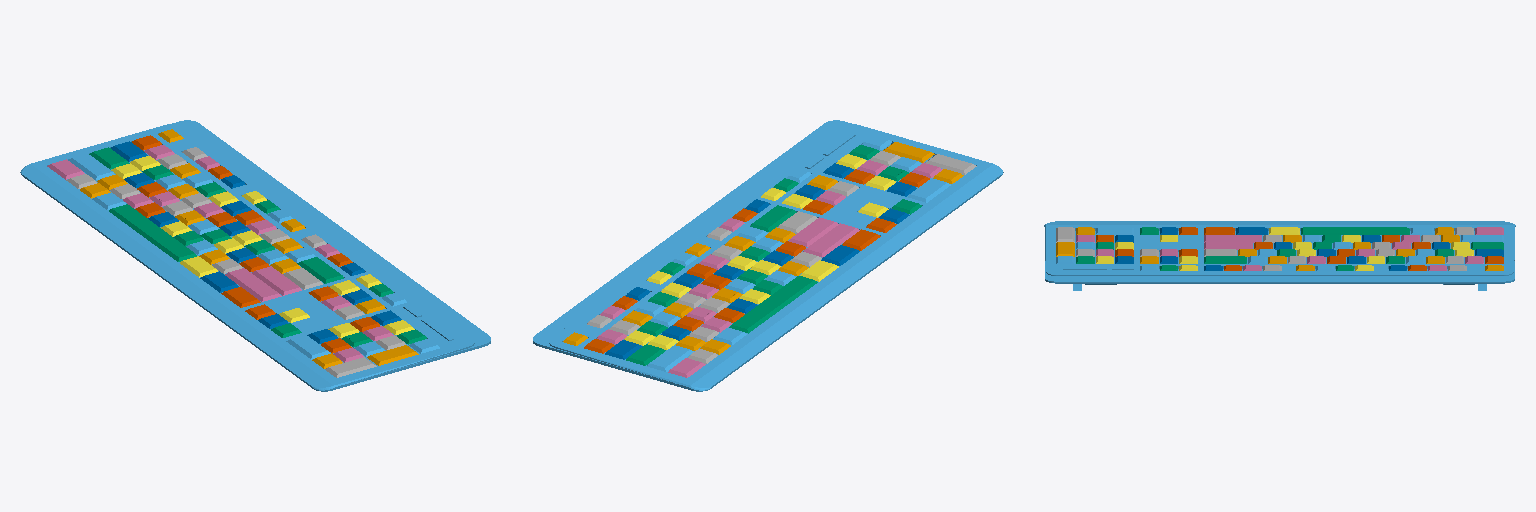
--- Facts derived from the render (not from the file) ---
Views: 3 orthographic renders of the robot side by side, from view 1: azimuth 30°, elevation 25°; view 2: azimuth 150°, elevation 25°; view 3: azimuth 270°, elevation 25°.
Model partnet_e288a26e631df11f163b8151aa4c52b1 with 106 links and 105 joints (104 prismatic, 1 fixed), rooted at base, posed every joint at zero.
Links seen in each view (by area): view 1: link_104, link_25, link_29, link_53, link_81, link_40, link_16, link_7, link_14; view 2: link_104, link_25, link_29, link_53, link_40, link_81, link_16, link_7, link_14; view 3: link_104, link_25.
Link boxes in pixels (left/top/right/bottom): link_104: left=20, top=120, right=490, bottom=391; link_25: left=109, top=204, right=196, bottom=261; link_29: left=225, top=268, right=281, bottom=301; link_53: left=252, top=266, right=301, bottom=295; link_81: left=297, top=257, right=343, bottom=283; link_40: left=68, top=153, right=114, bottom=179; link_16: left=286, top=335, right=330, bottom=359; link_7: left=367, top=345, right=418, bottom=365; link_14: left=325, top=357, right=376, bottom=377; link_104: left=533, top=120, right=1003, bottom=391; link_25: left=729, top=276, right=817, bottom=333; link_29: left=803, top=223, right=859, bottom=257; link_53: left=789, top=217, right=838, bottom=246; link_40: left=647, top=345, right=693, bottom=371; link_81: left=750, top=205, right=796, bottom=231; link_16: left=908, top=178, right=950, bottom=202; link_7: left=883, top=142, right=934, bottom=162; link_14: left=925, top=154, right=976, bottom=174; link_104: left=1044, top=221, right=1515, bottom=290; link_25: left=1301, top=227, right=1409, bottom=234.
Size in the robot's own frame: 0.6345 by 1.9 by 0.0626 metres.
109 mesh visuals loaded from 109 distinct referenced files (109 OBJ).

URDF robot description (partnet_e288a26e631df11f163b8151aa4c52b1):
<?xml version="1.0" ?>
<robot name="partnet_e288a26e631df11f163b8151aa4c52b1">
	<link name="base"/>
	<link name="link_0">
		<visual name="key-2">
			<origin xyz="-0.8376136925644979 -0.01796272728800824 0.025560318443522766"/>
			<geometry>
				<mesh filename="textured_objs/original_103.obj"/>
			</geometry>
		</visual>
		<collision>
			<origin xyz="-0.8376136925644979 -0.01796272728800824 0.025560318443522766"/>
			<geometry>
				<mesh filename="textured_objs/original_103.obj"/>
			</geometry>
		</collision>
	</link>
	<joint name="joint_0" type="prismatic">
		<origin xyz="0.8376136925644979 0.01796272728800824 -0.025560318443522766"/>
		<axis xyz="0 -0.999122966290321 -0.04187240417303504"/>
		<child link="link_0"/>
		<parent link="link_104"/>
		<limit lower="0" upper="0.005"/>
	</joint>
	<link name="link_1">
		<visual name="key-3">
			<origin xyz="-0.8376136925644979 -0.01796272728800824 0.025560318443522766"/>
			<geometry>
				<mesh filename="textured_objs/original_106.obj"/>
			</geometry>
		</visual>
		<collision>
			<origin xyz="-0.8376136925644979 -0.01796272728800824 0.025560318443522766"/>
			<geometry>
				<mesh filename="textured_objs/original_106.obj"/>
			</geometry>
		</collision>
	</link>
	<joint name="joint_1" type="prismatic">
		<origin xyz="0.8376136925644979 0.01796272728800824 -0.025560318443522766"/>
		<axis xyz="0 -0.999122966290321 -0.04187240417303504"/>
		<child link="link_1"/>
		<parent link="link_104"/>
		<limit lower="0" upper="0.005"/>
	</joint>
	<link name="link_2">
		<visual name="key-4">
			<origin xyz="-0.8376136925644979 -0.01796272728800824 0.025560318443522766"/>
			<geometry>
				<mesh filename="textured_objs/original_109.obj"/>
			</geometry>
		</visual>
		<collision>
			<origin xyz="-0.8376136925644979 -0.01796272728800824 0.025560318443522766"/>
			<geometry>
				<mesh filename="textured_objs/original_109.obj"/>
			</geometry>
		</collision>
	</link>
	<joint name="joint_2" type="prismatic">
		<origin xyz="0.8376136925644979 0.01796272728800824 -0.025560318443522766"/>
		<axis xyz="0 -0.999122966290321 -0.04187240417303504"/>
		<child link="link_2"/>
		<parent link="link_104"/>
		<limit lower="0" upper="0.005"/>
	</joint>
	<link name="link_3">
		<visual name="key-5">
			<origin xyz="-0.8376136925644979 -0.01796272728800824 0.025560318443522766"/>
			<geometry>
				<mesh filename="textured_objs/original_115.obj"/>
			</geometry>
		</visual>
		<collision>
			<origin xyz="-0.8376136925644979 -0.01796272728800824 0.025560318443522766"/>
			<geometry>
				<mesh filename="textured_objs/original_115.obj"/>
			</geometry>
		</collision>
	</link>
	<joint name="joint_3" type="prismatic">
		<origin xyz="0.8376136925644979 0.01796272728800824 -0.025560318443522766"/>
		<axis xyz="0 -0.999122966290321 -0.04187240417303504"/>
		<child link="link_3"/>
		<parent link="link_104"/>
		<limit lower="0" upper="0.005"/>
	</joint>
	<link name="link_4">
		<visual name="key-6">
			<origin xyz="-0.8376136925644979 -0.01796272728800824 0.025560318443522766"/>
			<geometry>
				<mesh filename="textured_objs/original_114.obj"/>
			</geometry>
		</visual>
		<collision>
			<origin xyz="-0.8376136925644979 -0.01796272728800824 0.025560318443522766"/>
			<geometry>
				<mesh filename="textured_objs/original_114.obj"/>
			</geometry>
		</collision>
	</link>
	<joint name="joint_4" type="prismatic">
		<origin xyz="0.8376136925644979 0.01796272728800824 -0.025560318443522766"/>
		<axis xyz="0 -0.999122966290321 -0.04187240417303504"/>
		<child link="link_4"/>
		<parent link="link_104"/>
		<limit lower="0" upper="0.005"/>
	</joint>
	<link name="link_5">
		<visual name="key-7">
			<origin xyz="-0.8376136925644979 -0.01796272728800824 0.025560318443522766"/>
			<geometry>
				<mesh filename="textured_objs/original_108.obj"/>
			</geometry>
		</visual>
		<collision>
			<origin xyz="-0.8376136925644979 -0.01796272728800824 0.025560318443522766"/>
			<geometry>
				<mesh filename="textured_objs/original_108.obj"/>
			</geometry>
		</collision>
	</link>
	<joint name="joint_5" type="prismatic">
		<origin xyz="0.8376136925644979 0.01796272728800824 -0.025560318443522766"/>
		<axis xyz="0 -0.999122966290321 -0.04187240417303504"/>
		<child link="link_5"/>
		<parent link="link_104"/>
		<limit lower="0" upper="0.005"/>
	</joint>
	<link name="link_6">
		<visual name="key-8">
			<origin xyz="-0.8376136925644979 -0.01796272728800824 0.025560318443522766"/>
			<geometry>
				<mesh filename="textured_objs/original_111.obj"/>
			</geometry>
		</visual>
		<collision>
			<origin xyz="-0.8376136925644979 -0.01796272728800824 0.025560318443522766"/>
			<geometry>
				<mesh filename="textured_objs/original_111.obj"/>
			</geometry>
		</collision>
	</link>
	<joint name="joint_6" type="prismatic">
		<origin xyz="0.8376136925644979 0.01796272728800824 -0.025560318443522766"/>
		<axis xyz="0 -0.999122966290321 -0.04187240417303504"/>
		<child link="link_6"/>
		<parent link="link_104"/>
		<limit lower="0" upper="0.005"/>
	</joint>
	<link name="link_7">
		<visual name="key-9">
			<origin xyz="-0.8376136925644979 -0.01796272728800824 0.025560318443522766"/>
			<geometry>
				<mesh filename="textured_objs/original_104.obj"/>
			</geometry>
		</visual>
		<collision>
			<origin xyz="-0.8376136925644979 -0.01796272728800824 0.025560318443522766"/>
			<geometry>
				<mesh filename="textured_objs/original_104.obj"/>
			</geometry>
		</collision>
	</link>
	<joint name="joint_7" type="prismatic">
		<origin xyz="0.8376136925644979 0.01796272728800824 -0.025560318443522766"/>
		<axis xyz="0 -0.999122966290321 -0.04187240417303504"/>
		<child link="link_7"/>
		<parent link="link_104"/>
		<limit lower="0" upper="0.005"/>
	</joint>
	<link name="link_8">
		<visual name="key-10">
			<origin xyz="-0.8376136925644979 -0.01796272728800824 0.025560318443522766"/>
			<geometry>
				<mesh filename="textured_objs/original_110.obj"/>
			</geometry>
		</visual>
		<collision>
			<origin xyz="-0.8376136925644979 -0.01796272728800824 0.025560318443522766"/>
			<geometry>
				<mesh filename="textured_objs/original_110.obj"/>
			</geometry>
		</collision>
	</link>
	<joint name="joint_8" type="prismatic">
		<origin xyz="0.8376136925644979 0.01796272728800824 -0.025560318443522766"/>
		<axis xyz="0 -0.999122966290321 -0.04187240417303504"/>
		<child link="link_8"/>
		<parent link="link_104"/>
		<limit lower="0" upper="0.005"/>
	</joint>
	<link name="link_9">
		<visual name="key-11">
			<origin xyz="-0.8376136925644979 -0.01796272728800824 0.025560318443522766"/>
			<geometry>
				<mesh filename="textured_objs/original_113.obj"/>
			</geometry>
		</visual>
		<collision>
			<origin xyz="-0.8376136925644979 -0.01796272728800824 0.025560318443522766"/>
			<geometry>
				<mesh filename="textured_objs/original_113.obj"/>
			</geometry>
		</collision>
	</link>
	<joint name="joint_9" type="prismatic">
		<origin xyz="0.8376136925644979 0.01796272728800824 -0.025560318443522766"/>
		<axis xyz="0 -0.999122966290321 -0.04187240417303504"/>
		<child link="link_9"/>
		<parent link="link_104"/>
		<limit lower="0" upper="0.005"/>
	</joint>
	<link name="link_10">
		<visual name="key-12">
			<origin xyz="-0.8376136925644979 -0.01796272728800824 0.025560318443522766"/>
			<geometry>
				<mesh filename="textured_objs/original_112.obj"/>
			</geometry>
		</visual>
		<collision>
			<origin xyz="-0.8376136925644979 -0.01796272728800824 0.025560318443522766"/>
			<geometry>
				<mesh filename="textured_objs/original_112.obj"/>
			</geometry>
		</collision>
	</link>
	<joint name="joint_10" type="prismatic">
		<origin xyz="0.8376136925644979 0.01796272728800824 -0.025560318443522766"/>
		<axis xyz="0 -0.999122966290321 -0.04187240417303504"/>
		<child link="link_10"/>
		<parent link="link_104"/>
		<limit lower="0" upper="0.005"/>
	</joint>
	<link name="link_11">
		<visual name="key-13">
			<origin xyz="-0.8376136925644979 -0.01796272728800824 0.025560318443522766"/>
			<geometry>
				<mesh filename="textured_objs/original_101.obj"/>
			</geometry>
		</visual>
		<collision>
			<origin xyz="-0.8376136925644979 -0.01796272728800824 0.025560318443522766"/>
			<geometry>
				<mesh filename="textured_objs/original_101.obj"/>
			</geometry>
		</collision>
	</link>
	<joint name="joint_11" type="prismatic">
		<origin xyz="0.8376136925644979 0.01796272728800824 -0.025560318443522766"/>
		<axis xyz="0 -0.999122966290321 -0.04187240417303504"/>
		<child link="link_11"/>
		<parent link="link_104"/>
		<limit lower="0" upper="0.005"/>
	</joint>
	<link name="link_12">
		<visual name="key-14">
			<origin xyz="-0.8376136925644979 -0.01796272728800824 0.025560318443522766"/>
			<geometry>
				<mesh filename="textured_objs/original_100.obj"/>
			</geometry>
		</visual>
		<collision>
			<origin xyz="-0.8376136925644979 -0.01796272728800824 0.025560318443522766"/>
			<geometry>
				<mesh filename="textured_objs/original_100.obj"/>
			</geometry>
		</collision>
	</link>
	<joint name="joint_12" type="prismatic">
		<origin xyz="0.8376136925644979 0.01796272728800824 -0.025560318443522766"/>
		<axis xyz="0 -0.999122966290321 -0.04187240417303504"/>
		<child link="link_12"/>
		<parent link="link_104"/>
		<limit lower="0" upper="0.005"/>
	</joint>
	<link name="link_13">
		<visual name="key-15">
			<origin xyz="-0.8376136925644979 -0.01796272728800824 0.025560318443522766"/>
			<geometry>
				<mesh filename="textured_objs/original_107.obj"/>
			</geometry>
		</visual>
		<collision>
			<origin xyz="-0.8376136925644979 -0.01796272728800824 0.025560318443522766"/>
			<geometry>
				<mesh filename="textured_objs/original_107.obj"/>
			</geometry>
		</collision>
	</link>
	<joint name="joint_13" type="prismatic">
		<origin xyz="0.8376136925644979 0.01796272728800824 -0.025560318443522766"/>
		<axis xyz="0 -0.999122966290321 -0.04187240417303504"/>
		<child link="link_13"/>
		<parent link="link_104"/>
		<limit lower="0" upper="0.005"/>
	</joint>
	<link name="link_14">
		<visual name="key-16">
			<origin xyz="-0.8376136925644979 -0.01796272728800824 0.025560318443522766"/>
			<geometry>
				<mesh filename="textured_objs/original_105.obj"/>
			</geometry>
		</visual>
		<collision>
			<origin xyz="-0.8376136925644979 -0.01796272728800824 0.025560318443522766"/>
			<geometry>
				<mesh filename="textured_objs/original_105.obj"/>
			</geometry>
		</collision>
	</link>
	<joint name="joint_14" type="prismatic">
		<origin xyz="0.8376136925644979 0.01796272728800824 -0.025560318443522766"/>
		<axis xyz="0 -0.999122966290321 -0.04187240417303504"/>
		<child link="link_14"/>
		<parent link="link_104"/>
		<limit lower="0" upper="0.005"/>
	</joint>
	<link name="link_15">
		<visual name="key-17">
			<origin xyz="-0.8376136925644979 -0.01796272728800824 0.025560318443522766"/>
			<geometry>
				<mesh filename="textured_objs/original_99.obj"/>
			</geometry>
		</visual>
		<collision>
			<origin xyz="-0.8376136925644979 -0.01796272728800824 0.025560318443522766"/>
			<geometry>
				<mesh filename="textured_objs/original_99.obj"/>
			</geometry>
		</collision>
	</link>
	<joint name="joint_15" type="prismatic">
		<origin xyz="0.8376136925644979 0.01796272728800824 -0.025560318443522766"/>
		<axis xyz="0 -0.999122966290321 -0.04187240417303504"/>
		<child link="link_15"/>
		<parent link="link_104"/>
		<limit lower="0" upper="0.005"/>
	</joint>
	<link name="link_16">
		<visual name="key-18">
			<origin xyz="-0.8376136925644979 -0.01796272728800824 0.025560318443522766"/>
			<geometry>
				<mesh filename="textured_objs/original_102.obj"/>
			</geometry>
		</visual>
		<collision>
			<origin xyz="-0.8376136925644979 -0.01796272728800824 0.025560318443522766"/>
			<geometry>
				<mesh filename="textured_objs/original_102.obj"/>
			</geometry>
		</collision>
	</link>
	<joint name="joint_16" type="prismatic">
		<origin xyz="0.8376136925644979 0.01796272728800824 -0.025560318443522766"/>
		<axis xyz="0 -0.999122966290321 -0.04187240417303504"/>
		<child link="link_16"/>
		<parent link="link_104"/>
		<limit lower="0" upper="0.005"/>
	</joint>
	<link name="link_17">
		<visual name="key-19">
			<origin xyz="-0.8376136925644979 -0.01796272728800824 0.025560318443522766"/>
			<geometry>
				<mesh filename="textured_objs/original_91.obj"/>
			</geometry>
		</visual>
		<collision>
			<origin xyz="-0.8376136925644979 -0.01796272728800824 0.025560318443522766"/>
			<geometry>
				<mesh filename="textured_objs/original_91.obj"/>
			</geometry>
		</collision>
	</link>
	<joint name="joint_17" type="prismatic">
		<origin xyz="0.8376136925644979 0.01796272728800824 -0.025560318443522766"/>
		<axis xyz="0 -0.999122966290321 -0.04187240417303504"/>
		<child link="link_17"/>
		<parent link="link_104"/>
		<limit lower="0" upper="0.005"/>
	</joint>
	<link name="link_18">
		<visual name="key-20">
			<origin xyz="-0.8376136925644979 -0.01796272728800824 0.025560318443522766"/>
			<geometry>
				<mesh filename="textured_objs/original_90.obj"/>
			</geometry>
		</visual>
		<collision>
			<origin xyz="-0.8376136925644979 -0.01796272728800824 0.025560318443522766"/>
			<geometry>
				<mesh filename="textured_objs/original_90.obj"/>
			</geometry>
		</collision>
	</link>
	<joint name="joint_18" type="prismatic">
		<origin xyz="0.8376136925644979 0.01796272728800824 -0.025560318443522766"/>
		<axis xyz="0 -0.999122966290321 -0.04187240417303504"/>
		<child link="link_18"/>
		<parent link="link_104"/>
		<limit lower="0" upper="0.005"/>
	</joint>
	<link name="link_19">
		<visual name="key-21">
			<origin xyz="-0.8376136925644979 -0.01796272728800824 0.025560318443522766"/>
			<geometry>
				<mesh filename="textured_objs/original_93.obj"/>
			</geometry>
		</visual>
		<collision>
			<origin xyz="-0.8376136925644979 -0.01796272728800824 0.025560318443522766"/>
			<geometry>
				<mesh filename="textured_objs/original_93.obj"/>
			</geometry>
		</collision>
	</link>
	<joint name="joint_19" type="prismatic">
		<origin xyz="0.8376136925644979 0.01796272728800824 -0.025560318443522766"/>
		<axis xyz="0 -0.999122966290321 -0.04187240417303504"/>
		<child link="link_19"/>
		<parent link="link_104"/>
		<limit lower="0" upper="0.005"/>
	</joint>
	<link name="link_20">
		<visual name="key-22">
			<origin xyz="-0.8376136925644979 -0.01796272728800824 0.025560318443522766"/>
			<geometry>
				<mesh filename="textured_objs/original_92.obj"/>
			</geometry>
		</visual>
		<collision>
			<origin xyz="-0.8376136925644979 -0.01796272728800824 0.025560318443522766"/>
			<geometry>
				<mesh filename="textured_objs/original_92.obj"/>
			</geometry>
		</collision>
	</link>
	<joint name="joint_20" type="prismatic">
		<origin xyz="0.8376136925644979 0.01796272728800824 -0.025560318443522766"/>
		<axis xyz="0 -0.999122966290321 -0.04187240417303504"/>
		<child link="link_20"/>
		<parent link="link_104"/>
		<limit lower="0" upper="0.005"/>
	</joint>
	<link name="link_21">
		<visual name="key-23">
			<origin xyz="-0.8376136925644979 -0.01796272728800824 0.025560318443522766"/>
			<geometry>
				<mesh filename="textured_objs/original_16.obj"/>
			</geometry>
		</visual>
		<collision>
			<origin xyz="-0.8376136925644979 -0.01796272728800824 0.025560318443522766"/>
			<geometry>
				<mesh filename="textured_objs/original_16.obj"/>
			</geometry>
		</collision>
	</link>
	<joint name="joint_21" type="prismatic">
		<origin xyz="0.8376136925644979 0.01796272728800824 -0.025560318443522766"/>
		<axis xyz="0 -0.999122966290321 -0.04187240417303504"/>
		<child link="link_21"/>
		<parent link="link_104"/>
		<limit lower="0" upper="0.005"/>
	</joint>
	<link name="link_22">
		<visual name="key-24">
			<origin xyz="-0.8376136925644979 -0.01796272728800824 0.025560318443522766"/>
			<geometry>
				<mesh filename="textured_objs/original_17.obj"/>
			</geometry>
		</visual>
		<collision>
			<origin xyz="-0.8376136925644979 -0.01796272728800824 0.025560318443522766"/>
			<geometry>
				<mesh filename="textured_objs/original_17.obj"/>
			</geometry>
		</collision>
	</link>
	<joint name="joint_22" type="prismatic">
		<origin xyz="0.8376136925644979 0.01796272728800824 -0.025560318443522766"/>
		<axis xyz="0 -0.999122966290321 -0.04187240417303504"/>
		<child link="link_22"/>
		<parent link="link_104"/>
		<limit lower="0" upper="0.005"/>
	</joint>
	<link name="link_23">
		<visual name="key-25">
			<origin xyz="-0.8376136925644979 -0.01796272728800824 0.025560318443522766"/>
			<geometry>
				<mesh filename="textured_objs/original_18.obj"/>
			</geometry>
		</visual>
		<collision>
			<origin xyz="-0.8376136925644979 -0.01796272728800824 0.025560318443522766"/>
			<geometry>
				<mesh filename="textured_objs/original_18.obj"/>
			</geometry>
		</collision>
	</link>
	<joint name="joint_23" type="prismatic">
		<origin xyz="0.8376136925644979 0.01796272728800824 -0.025560318443522766"/>
		<axis xyz="0 -0.999122966290321 -0.04187240417303504"/>
		<child link="link_23"/>
		<parent link="link_104"/>
		<limit lower="0" upper="0.005"/>
	</joint>
	<link name="link_24">
		<visual name="key-26">
			<origin xyz="-0.8376136925644979 -0.01796272728800824 0.025560318443522766"/>
			<geometry>
				<mesh filename="textured_objs/original_23.obj"/>
			</geometry>
		</visual>
		<collision>
			<origin xyz="-0.8376136925644979 -0.01796272728800824 0.025560318443522766"/>
			<geometry>
				<mesh filename="textured_objs/original_23.obj"/>
			</geometry>
		</collision>
	</link>
	<joint name="joint_24" type="prismatic">
		<origin xyz="0.8376136925644979 0.01796272728800824 -0.025560318443522766"/>
		<axis xyz="0 -0.999122966290321 -0.04187240417303504"/>
		<child link="link_24"/>
		<parent link="link_104"/>
		<limit lower="0" upper="0.005"/>
	</joint>
	<link name="link_25">
		<visual name="key-27">
			<origin xyz="-0.8376136925644979 -0.01796272728800824 0.025560318443522766"/>
			<geometry>
				<mesh filename="textured_objs/original_38.obj"/>
			</geometry>
		</visual>
		<collision>
			<origin xyz="-0.8376136925644979 -0.01796272728800824 0.025560318443522766"/>
			<geometry>
				<mesh filename="textured_objs/original_38.obj"/>
			</geometry>
		</collision>
	</link>
	<joint name="joint_25" type="prismatic">
		<origin xyz="0.8376136925644979 0.01796272728800824 -0.025560318443522766"/>
		<axis xyz="0 -0.999122966290321 -0.04187240417303504"/>
		<child link="link_25"/>
		<parent link="link_104"/>
		<limit lower="0" upper="0.005"/>
	</joint>
	<link name="link_26">
		<visual name="key-28">
			<origin xyz="-0.8376136925644979 -0.01796272728800824 0.025560318443522766"/>
			<geometry>
				<mesh filename="textured_objs/original_47.obj"/>
			</geometry>
		</visual>
		<collision>
			<origin xyz="-0.8376136925644979 -0.01796272728800824 0.025560318443522766"/>
			<geometry>
				<mesh filename="textured_objs/original_47.obj"/>
			</geometry>
		</collision>
	</link>
	<joint name="joint_26" type="prismatic">
		<origin xyz="0.8376136925644979 0.01796272728800824 -0.025560318443522766"/>
		<axis xyz="0 -0.999122966290321 -0.04187240417303504"/>
		<child link="link_26"/>
		<parent link="link_104"/>
		<limit lower="0" upper="0.005"/>
	</joint>
	<link name="link_27">
		<visual name="key-29">
			<origin xyz="-0.8376136925644979 -0.01796272728800824 0.025560318443522766"/>
			<geometry>
				<mesh filename="textured_objs/original_56.obj"/>
			</geometry>
		</visual>
		<collision>
			<origin xyz="-0.8376136925644979 -0.01796272728800824 0.025560318443522766"/>
			<geometry>
				<mesh filename="textured_objs/original_56.obj"/>
			</geometry>
		</collision>
	</link>
	<joint name="joint_27" type="prismatic">
		<origin xyz="0.8376136925644979 0.01796272728800824 -0.025560318443522766"/>
		<axis xyz="0 -0.999122966290321 -0.04187240417303504"/>
		<child link="link_27"/>
		<parent link="link_104"/>
		<limit lower="0" upper="0.005"/>
	</joint>
	<link name="link_28">
		<visual name="key-30">
			<origin xyz="-0.8376136925644979 -0.01796272728800824 0.025560318443522766"/>
			<geometry>
				<mesh filename="textured_objs/original_55.obj"/>
			</geometry>
		</visual>
		<collision>
			<origin xyz="-0.8376136925644979 -0.01796272728800824 0.025560318443522766"/>
			<geometry>
				<mesh filename="textured_objs/original_55.obj"/>
			</geometry>
		</collision>
	</link>
	<joint name="joint_28" type="prismatic">
		<origin xyz="0.8376136925644979 0.01796272728800824 -0.025560318443522766"/>
		<axis xyz="0 -0.999122966290321 -0.04187240417303504"/>
		<child link="link_28"/>
		<parent link="link_104"/>
		<limit lower="0" upper="0.005"/>
	</joint>
	<link name="link_29">
		<visual name="key-31">
			<origin xyz="-0.8376136925644979 -0.01796272728800824 0.025560318443522766"/>
			<geometry>
				<mesh filename="textured_objs/original_57.obj"/>
			</geometry>
		</visual>
		<collision>
			<origin xyz="-0.8376136925644979 -0.01796272728800824 0.025560318443522766"/>
			<geometry>
				<mesh filename="textured_objs/original_57.obj"/>
			</geometry>
		</collision>
	</link>
	<joint name="joint_29" type="prismatic">
		<origin xyz="0.8376136925644979 0.01796272728800824 -0.025560318443522766"/>
		<axis xyz="0 -0.999122966290321 -0.04187240417303504"/>
		<child link="link_29"/>
		<parent link="link_104"/>
		<limit lower="0" upper="0.005"/>
	</joint>
	<link name="link_30">
		<visual name="key-32">
			<origin xyz="-0.8376136925644979 -0.01796272728800824 0.025560318443522766"/>
			<geometry>
				<mesh filename="textured_objs/original_46.obj"/>
			</geometry>
		</visual>
		<collision>
			<origin xyz="-0.8376136925644979 -0.01796272728800824 0.025560318443522766"/>
			<geometry>
				<mesh filename="textured_objs/original_46.obj"/>
			</geometry>
		</collision>
	</link>
	<joint name="joint_30" type="prismatic">
		<origin xyz="0.8376136925644979 0.01796272728800824 -0.025560318443522766"/>
		<axis xyz="0 -0.999122966290321 -0.04187240417303504"/>
		<child link="link_30"/>
		<parent link="link_104"/>
		<limit lower="0" upper="0.005"/>
	</joint>
	<link name="link_31">
		<visual name="key-33">
			<origin xyz="-0.8376136925644979 -0.01796272728800824 0.025560318443522766"/>
			<geometry>
				<mesh filename="textured_objs/original_37.obj"/>
			</geometry>
		</visual>
		<collision>
			<origin xyz="-0.8376136925644979 -0.01796272728800824 0.025560318443522766"/>
			<geometry>
				<mesh filename="textured_objs/original_37.obj"/>
			</geometry>
		</collision>
	</link>
	<joint name="joint_31" type="prismatic">
		<origin xyz="0.8376136925644979 0.01796272728800824 -0.025560318443522766"/>
		<axis xyz="0 -0.999122966290321 -0.04187240417303504"/>
		<child link="link_31"/>
		<parent link="link_104"/>
		<limit lower="0" upper="0.005"/>
	</joint>
	<link name="link_32">
		<visual name="key-34">
			<origin xyz="-0.8376136925644979 -0.01796272728800824 0.025560318443522766"/>
			<geometry>
				<mesh filename="textured_objs/original_36.obj"/>
			</geometry>
		</visual>
		<collision>
			<origin xyz="-0.8376136925644979 -0.01796272728800824 0.025560318443522766"/>
			<geometry>
				<mesh filename="textured_objs/original_36.obj"/>
			</geometry>
		</collision>
	</link>
	<joint name="joint_32" type="prismatic">
		<origin xyz="0.8376136925644979 0.01796272728800824 -0.025560318443522766"/>
		<axis xyz="0 -0.999122966290321 -0.04187240417303504"/>
		<child link="link_32"/>
		<parent link="link_104"/>
		<limit lower="0" upper="0.005"/>
	</joint>
	<link name="link_33">
		<visual name="key-35">
			<origin xyz="-0.8376136925644979 -0.01796272728800824 0.025560318443522766"/>
			<geometry>
				<mesh filename="textured_objs/original_35.obj"/>
			</geometry>
		</visual>
		<collision>
			<origin xyz="-0.8376136925644979 -0.01796272728800824 0.025560318443522766"/>
			<geometry>
				<mesh filename="textured_objs/original_35.obj"/>
			</geometry>
		</collision>
	</link>
	<joint name="joint_33" type="prismatic">
		<origin xyz="0.8376136925644979 0.01796272728800824 -0.025560318443522766"/>
		<axis xyz="0 -0.999122966290321 -0.04187240417303504"/>
		<child link="link_33"/>
		<parent link="link_104"/>
		<limit lower="0" upper="0.005"/>
	</joint>
	<link name="link_34">
		<visual name="key-36">
			<origin xyz="-0.8376136925644979 -0.01796272728800824 0.025560318443522766"/>
			<geometry>
				<mesh filename="textured_objs/original_34.obj"/>
			</geometry>
		</visual>
		<collision>
			<origin xyz="-0.8376136925644979 -0.01796272728800824 0.025560318443522766"/>
			<geometry>
				<mesh filename="textured_objs/original_34.obj"/>
			</geometry>
		</collision>
	</link>
	<joint name="joint_34" type="prismatic">
		<origin xyz="0.8376136925644979 0.01796272728800824 -0.025560318443522766"/>
		<axis xyz="0 -0.999122966290321 -0.04187240417303504"/>
		<child link="link_34"/>
		<parent link="link_104"/>
		<limit lower="0" upper="0.005"/>
	</joint>
	<link name="link_35">
		<visual name="key-37">
			<origin xyz="-0.8376136925644979 -0.01796272728800824 0.025560318443522766"/>
			<geometry>
				<mesh filename="textured_objs/original_33.obj"/>
			</geometry>
		</visual>
		<collision>
			<origin xyz="-0.8376136925644979 -0.01796272728800824 0.025560318443522766"/>
			<geometry>
				<mesh filename="textured_objs/original_33.obj"/>
			</geometry>
		</collision>
	</link>
	<joint name="joint_35" type="prismatic">
		<origin xyz="0.8376136925644979 0.01796272728800824 -0.025560318443522766"/>
		<axis xyz="0 -0.999122966290321 -0.04187240417303504"/>
		<child link="link_35"/>
		<parent link="link_104"/>
		<limit lower="0" upper="0.005"/>
	</joint>
	<link name="link_36">
		<visual name="key-38">
			<origin xyz="-0.8376136925644979 -0.01796272728800824 0.025560318443522766"/>
			<geometry>
				<mesh filename="textured_objs/original_32.obj"/>
			</geometry>
		</visual>
		<collision>
			<origin xyz="-0.8376136925644979 -0.01796272728800824 0.025560318443522766"/>
			<geometry>
				<mesh filename="textured_objs/original_32.obj"/>
			</geometry>
		</collision>
	</link>
	<joint name="joint_36" type="prismatic">
		<origin xyz="0.8376136925644979 0.01796272728800824 -0.025560318443522766"/>
		<axis xyz="0 -0.999122966290321 -0.04187240417303504"/>
		<child link="link_36"/>
		<parent link="link_104"/>
		<limit lower="0" upper="0.005"/>
	</joint>
	<link name="link_37">
		<visual name="key-39">
			<origin xyz="-0.8376136925644979 -0.01796272728800824 0.025560318443522766"/>
			<geometry>
				<mesh filename="textured_objs/original_22.obj"/>
			</geometry>
		</visual>
		<collision>
			<origin xyz="-0.8376136925644979 -0.01796272728800824 0.025560318443522766"/>
			<geometry>
				<mesh filename="textured_objs/original_22.obj"/>
			</geometry>
		</collision>
	</link>
	<joint name="joint_37" type="prismatic">
		<origin xyz="0.8376136925644979 0.01796272728800824 -0.025560318443522766"/>
		<axis xyz="0 -0.999122966290321 -0.04187240417303504"/>
		<child link="link_37"/>
		<parent link="link_104"/>
		<limit lower="0" upper="0.005"/>
	</joint>
	<link name="link_38">
		<visual name="key-40">
			<origin xyz="-0.8376136925644979 -0.01796272728800824 0.025560318443522766"/>
			<geometry>
				<mesh filename="textured_objs/original_21.obj"/>
			</geometry>
		</visual>
		<collision>
			<origin xyz="-0.8376136925644979 -0.01796272728800824 0.025560318443522766"/>
			<geometry>
				<mesh filename="textured_objs/original_21.obj"/>
			</geometry>
		</collision>
	</link>
	<joint name="joint_38" type="prismatic">
		<origin xyz="0.8376136925644979 0.01796272728800824 -0.025560318443522766"/>
		<axis xyz="0 -0.999122966290321 -0.04187240417303504"/>
		<child link="link_38"/>
		<parent link="link_104"/>
		<limit lower="0" upper="0.005"/>
	</joint>
	<link name="link_39">
		<visual name="key-41">
			<origin xyz="-0.8376136925644979 -0.01796272728800824 0.025560318443522766"/>
			<geometry>
				<mesh filename="textured_objs/original_20.obj"/>
			</geometry>
		</visual>
		<collision>
			<origin xyz="-0.8376136925644979 -0.01796272728800824 0.025560318443522766"/>
			<geometry>
				<mesh filename="textured_objs/original_20.obj"/>
			</geometry>
		</collision>
	</link>
	<joint name="joint_39" type="prismatic">
		<origin xyz="0.8376136925644979 0.01796272728800824 -0.025560318443522766"/>
		<axis xyz="0 -0.999122966290321 -0.04187240417303504"/>
		<child link="link_39"/>
		<parent link="link_104"/>
		<limit lower="0" upper="0.005"/>
	</joint>
	<link name="link_40">
		<visual name="key-42">
			<origin xyz="-0.8376136925644979 -0.01796272728800824 0.025560318443522766"/>
			<geometry>
				<mesh filename="textured_objs/original_15.obj"/>
			</geometry>
		</visual>
		<collision>
			<origin xyz="-0.8376136925644979 -0.01796272728800824 0.025560318443522766"/>
			<geometry>
				<mesh filename="textured_objs/original_15.obj"/>
			</geometry>
		</collision>
	</link>
	<joint name="joint_40" type="prismatic">
		<origin xyz="0.8376136925644979 0.01796272728800824 -0.025560318443522766"/>
		<axis xyz="0 -0.999122966290321 -0.04187240417303504"/>
		<child link="link_40"/>
		<parent link="link_104"/>
		<limit lower="0" upper="0.005"/>
	</joint>
	<link name="link_41">
		<visual name="key-43">
			<origin xyz="-0.8376136925644979 -0.01796272728800824 0.025560318443522766"/>
			<geometry>
				<mesh filename="textured_objs/original_6.obj"/>
			</geometry>
		</visual>
		<collision>
			<origin xyz="-0.8376136925644979 -0.01796272728800824 0.025560318443522766"/>
			<geometry>
				<mesh filename="textured_objs/original_6.obj"/>
			</geometry>
		</collision>
	</link>
	<joint name="joint_41" type="prismatic">
		<origin xyz="0.8376136925644979 0.01796272728800824 -0.025560318443522766"/>
		<axis xyz="0 -0.999122966290321 -0.04187240417303504"/>
		<child link="link_41"/>
		<parent link="link_104"/>
		<limit lower="0" upper="0.005"/>
	</joint>
	<link name="link_42">
		<visual name="key-44">
			<origin xyz="-0.8376136925644979 -0.01796272728800824 0.025560318443522766"/>
			<geometry>
				<mesh filename="textured_objs/original_19.obj"/>
			</geometry>
		</visual>
		<collision>
			<origin xyz="-0.8376136925644979 -0.01796272728800824 0.025560318443522766"/>
			<geometry>
				<mesh filename="textured_objs/original_19.obj"/>
			</geometry>
		</collision>
	</link>
	<joint name="joint_42" type="prismatic">
		<origin xyz="0.8376136925644979 0.01796272728800824 -0.025560318443522766"/>
		<axis xyz="0 -0.999122966290321 -0.04187240417303504"/>
		<child link="link_42"/>
		<parent link="link_104"/>
		<limit lower="0" upper="0.005"/>
	</joint>
	<link name="link_43">
		<visual name="key-45">
			<origin xyz="-0.8376136925644979 -0.01796272728800824 0.025560318443522766"/>
			<geometry>
				<mesh filename="textured_objs/original_24.obj"/>
			</geometry>
		</visual>
		<collision>
			<origin xyz="-0.8376136925644979 -0.01796272728800824 0.025560318443522766"/>
			<geometry>
				<mesh filename="textured_objs/original_24.obj"/>
			</geometry>
		</collision>
	</link>
	<joint name="joint_43" type="prismatic">
		<origin xyz="0.8376136925644979 0.01796272728800824 -0.025560318443522766"/>
		<axis xyz="0 -0.999122966290321 -0.04187240417303504"/>
		<child link="link_43"/>
		<parent link="link_104"/>
		<limit lower="0" upper="0.005"/>
	</joint>
	<link name="link_44">
		<visual name="key-46">
			<origin xyz="-0.8376136925644979 -0.01796272728800824 0.025560318443522766"/>
			<geometry>
				<mesh filename="textured_objs/original_29.obj"/>
			</geometry>
		</visual>
		<collision>
			<origin xyz="-0.8376136925644979 -0.01796272728800824 0.025560318443522766"/>
			<geometry>
				<mesh filename="textured_objs/original_29.obj"/>
			</geometry>
		</collision>
	</link>
	<joint name="joint_44" type="prismatic">
		<origin xyz="0.8376136925644979 0.01796272728800824 -0.025560318443522766"/>
		<axis xyz="0 -0.999122966290321 -0.04187240417303504"/>
		<child link="link_44"/>
		<parent link="link_104"/>
		<limit lower="0" upper="0.005"/>
	</joint>
	<link name="link_45">
		<visual name="key-47">
			<origin xyz="-0.8376136925644979 -0.01796272728800824 0.025560318443522766"/>
			<geometry>
				<mesh filename="textured_objs/original_13.obj"/>
			</geometry>
		</visual>
		<collision>
			<origin xyz="-0.8376136925644979 -0.01796272728800824 0.025560318443522766"/>
			<geometry>
				<mesh filename="textured_objs/original_13.obj"/>
			</geometry>
		</collision>
	</link>
	<joint name="joint_45" type="prismatic">
		<origin xyz="0.8376136925644979 0.01796272728800824 -0.025560318443522766"/>
		<axis xyz="0 -0.999122966290321 -0.04187240417303504"/>
		<child link="link_45"/>
		<parent link="link_104"/>
		<limit lower="0" upper="0.005"/>
	</joint>
	<link name="link_46">
		<visual name="key-48">
			<origin xyz="-0.8376136925644979 -0.01796272728800824 0.025560318443522766"/>
			<geometry>
				<mesh filename="textured_objs/original_31.obj"/>
			</geometry>
		</visual>
		<collision>
			<origin xyz="-0.8376136925644979 -0.01796272728800824 0.025560318443522766"/>
			<geometry>
				<mesh filename="textured_objs/original_31.obj"/>
			</geometry>
		</collision>
	</link>
	<joint name="joint_46" type="prismatic">
		<origin xyz="0.8376136925644979 0.01796272728800824 -0.025560318443522766"/>
		<axis xyz="0 -0.999122966290321 -0.04187240417303504"/>
		<child link="link_46"/>
		<parent link="link_104"/>
		<limit lower="0" upper="0.005"/>
	</joint>
	<link name="link_47">
		<visual name="key-49">
			<origin xyz="-0.8376136925644979 -0.01796272728800824 0.025560318443522766"/>
			<geometry>
				<mesh filename="textured_objs/original_14.obj"/>
			</geometry>
		</visual>
		<collision>
			<origin xyz="-0.8376136925644979 -0.01796272728800824 0.025560318443522766"/>
			<geometry>
				<mesh filename="textured_objs/original_14.obj"/>
			</geometry>
		</collision>
	</link>
	<joint name="joint_47" type="prismatic">
		<origin xyz="0.8376136925644979 0.01796272728800824 -0.025560318443522766"/>
		<axis xyz="0 -0.999122966290321 -0.04187240417303504"/>
		<child link="link_47"/>
		<parent link="link_104"/>
		<limit lower="0" upper="0.005"/>
	</joint>
	<link name="link_48">
		<visual name="key-50">
			<origin xyz="-0.8376136925644979 -0.01796272728800824 0.025560318443522766"/>
			<geometry>
				<mesh filename="textured_objs/original_48.obj"/>
			</geometry>
		</visual>
		<collision>
			<origin xyz="-0.8376136925644979 -0.01796272728800824 0.025560318443522766"/>
			<geometry>
				<mesh filename="textured_objs/original_48.obj"/>
			</geometry>
		</collision>
	</link>
	<joint name="joint_48" type="prismatic">
		<origin xyz="0.8376136925644979 0.01796272728800824 -0.025560318443522766"/>
		<axis xyz="0 -0.999122966290321 -0.04187240417303504"/>
		<child link="link_48"/>
		<parent link="link_104"/>
		<limit lower="0" upper="0.005"/>
	</joint>
	<link name="link_49">
		<visual name="key-51">
			<origin xyz="-0.8376136925644979 -0.01796272728800824 0.025560318443522766"/>
			<geometry>
				<mesh filename="textured_objs/original_49.obj"/>
			</geometry>
		</visual>
		<collision>
			<origin xyz="-0.8376136925644979 -0.01796272728800824 0.025560318443522766"/>
			<geometry>
				<mesh filename="textured_objs/original_49.obj"/>
			</geometry>
		</collision>
	</link>
	<joint name="joint_49" type="prismatic">
		<origin xyz="0.8376136925644979 0.01796272728800824 -0.025560318443522766"/>
		<axis xyz="0 -0.999122966290321 -0.04187240417303504"/>
		<child link="link_49"/>
		<parent link="link_104"/>
		<limit lower="0" upper="0.005"/>
	</joint>
	<link name="link_50">
		<visual name="key-52">
			<origin xyz="-0.8376136925644979 -0.01796272728800824 0.025560318443522766"/>
			<geometry>
				<mesh filename="textured_objs/original_50.obj"/>
			</geometry>
		</visual>
		<collision>
			<origin xyz="-0.8376136925644979 -0.01796272728800824 0.025560318443522766"/>
			<geometry>
				<mesh filename="textured_objs/original_50.obj"/>
			</geometry>
		</collision>
	</link>
	<joint name="joint_50" type="prismatic">
		<origin xyz="0.8376136925644979 0.01796272728800824 -0.025560318443522766"/>
		<axis xyz="0 -0.999122966290321 -0.04187240417303504"/>
		<child link="link_50"/>
		<parent link="link_104"/>
		<limit lower="0" upper="0.005"/>
	</joint>
	<link name="link_51">
		<visual name="key-53">
			<origin xyz="-0.8376136925644979 -0.01796272728800824 0.025560318443522766"/>
			<geometry>
				<mesh filename="textured_objs/original_58.obj"/>
			</geometry>
		</visual>
		<collision>
			<origin xyz="-0.8376136925644979 -0.01796272728800824 0.025560318443522766"/>
			<geometry>
				<mesh filename="textured_objs/original_58.obj"/>
			</geometry>
		</collision>
	</link>
	<joint name="joint_51" type="prismatic">
		<origin xyz="0.8376136925644979 0.01796272728800824 -0.025560318443522766"/>
		<axis xyz="0 -0.999122966290321 -0.04187240417303504"/>
		<child link="link_51"/>
		<parent link="link_104"/>
		<limit lower="0" upper="0.005"/>
	</joint>
	<link name="link_52">
		<visual name="key-54">
			<origin xyz="-0.8376136925644979 -0.01796272728800824 0.025560318443522766"/>
			<geometry>
				<mesh filename="textured_objs/original_59.obj"/>
			</geometry>
		</visual>
		<collision>
			<origin xyz="-0.8376136925644979 -0.01796272728800824 0.025560318443522766"/>
			<geometry>
				<mesh filename="textured_objs/original_59.obj"/>
			</geometry>
		</collision>
	</link>
	<joint name="joint_52" type="prismatic">
		<origin xyz="0.8376136925644979 0.01796272728800824 -0.025560318443522766"/>
		<axis xyz="0 -0.999122966290321 -0.04187240417303504"/>
		<child link="link_52"/>
		<parent link="link_104"/>
		<limit lower="0" upper="0.005"/>
	</joint>
	<link name="link_53">
		<visual name="key-55">
			<origin xyz="-0.8376136925644979 -0.01796272728800824 0.025560318443522766"/>
			<geometry>
				<mesh filename="textured_objs/original_60.obj"/>
			</geometry>
		</visual>
		<collision>
			<origin xyz="-0.8376136925644979 -0.01796272728800824 0.025560318443522766"/>
			<geometry>
				<mesh filename="textured_objs/original_60.obj"/>
			</geometry>
		</collision>
	</link>
	<joint name="joint_53" type="prismatic">
		<origin xyz="0.8376136925644979 0.01796272728800824 -0.025560318443522766"/>
		<axis xyz="0 -0.999122966290321 -0.04187240417303504"/>
		<child link="link_53"/>
		<parent link="link_104"/>
		<limit lower="0" upper="0.005"/>
	</joint>
	<link name="link_54">
		<visual name="key-56">
			<origin xyz="-0.8376136925644979 -0.01796272728800824 0.025560318443522766"/>
			<geometry>
				<mesh filename="textured_objs/original_65.obj"/>
			</geometry>
		</visual>
		<collision>
			<origin xyz="-0.8376136925644979 -0.01796272728800824 0.025560318443522766"/>
			<geometry>
				<mesh filename="textured_objs/original_65.obj"/>
			</geometry>
		</collision>
	</link>
	<joint name="joint_54" type="prismatic">
		<origin xyz="0.8376136925644979 0.01796272728800824 -0.025560318443522766"/>
		<axis xyz="0 -0.999122966290321 -0.04187240417303504"/>
		<child link="link_54"/>
		<parent link="link_104"/>
		<limit lower="0" upper="0.005"/>
	</joint>
	<link name="link_55">
		<visual name="key-57">
			<origin xyz="-0.8376136925644979 -0.01796272728800824 0.025560318443522766"/>
			<geometry>
				<mesh filename="textured_objs/original_62.obj"/>
			</geometry>
		</visual>
		<collision>
			<origin xyz="-0.8376136925644979 -0.01796272728800824 0.025560318443522766"/>
			<geometry>
				<mesh filename="textured_objs/original_62.obj"/>
			</geometry>
		</collision>
	</link>
	<joint name="joint_55" type="prismatic">
		<origin xyz="0.8376136925644979 0.01796272728800824 -0.025560318443522766"/>
		<axis xyz="0 -0.999122966290321 -0.04187240417303504"/>
		<child link="link_55"/>
		<parent link="link_104"/>
		<limit lower="0" upper="0.005"/>
	</joint>
	<link name="link_56">
		<visual name="key-58">
			<origin xyz="-0.8376136925644979 -0.01796272728800824 0.025560318443522766"/>
			<geometry>
				<mesh filename="textured_objs/original_61.obj"/>
			</geometry>
		</visual>
		<collision>
			<origin xyz="-0.8376136925644979 -0.01796272728800824 0.025560318443522766"/>
			<geometry>
				<mesh filename="textured_objs/original_61.obj"/>
			</geometry>
		</collision>
	</link>
	<joint name="joint_56" type="prismatic">
		<origin xyz="0.8376136925644979 0.01796272728800824 -0.025560318443522766"/>
		<axis xyz="0 -0.999122966290321 -0.04187240417303504"/>
		<child link="link_56"/>
		<parent link="link_104"/>
		<limit lower="0" upper="0.005"/>
	</joint>
	<link name="link_57">
		<visual name="key-59">
			<origin xyz="-0.8376136925644979 -0.01796272728800824 0.025560318443522766"/>
			<geometry>
				<mesh filename="textured_objs/original_54.obj"/>
			</geometry>
		</visual>
		<collision>
			<origin xyz="-0.8376136925644979 -0.01796272728800824 0.025560318443522766"/>
			<geometry>
				<mesh filename="textured_objs/original_54.obj"/>
			</geometry>
		</collision>
	</link>
	<joint name="joint_57" type="prismatic">
		<origin xyz="0.8376136925644979 0.01796272728800824 -0.025560318443522766"/>
		<axis xyz="0 -0.999122966290321 -0.04187240417303504"/>
		<child link="link_57"/>
		<parent link="link_104"/>
		<limit lower="0" upper="0.005"/>
	</joint>
	<link name="link_58">
		<visual name="key-60">
			<origin xyz="-0.8376136925644979 -0.01796272728800824 0.025560318443522766"/>
			<geometry>
				<mesh filename="textured_objs/original_53.obj"/>
			</geometry>
		</visual>
		<collision>
			<origin xyz="-0.8376136925644979 -0.01796272728800824 0.025560318443522766"/>
			<geometry>
				<mesh filename="textured_objs/original_53.obj"/>
			</geometry>
		</collision>
	</link>
	<joint name="joint_58" type="prismatic">
		<origin xyz="0.8376136925644979 0.01796272728800824 -0.025560318443522766"/>
		<axis xyz="0 -0.999122966290321 -0.04187240417303504"/>
		<child link="link_58"/>
		<parent link="link_104"/>
		<limit lower="0" upper="0.005"/>
	</joint>
	<link name="link_59">
		<visual name="key-61">
			<origin xyz="-0.8376136925644979 -0.01796272728800824 0.025560318443522766"/>
			<geometry>
				<mesh filename="textured_objs/original_52.obj"/>
			</geometry>
		</visual>
		<collision>
			<origin xyz="-0.8376136925644979 -0.01796272728800824 0.025560318443522766"/>
			<geometry>
				<mesh filename="textured_objs/original_52.obj"/>
			</geometry>
		</collision>
	</link>
	<joint name="joint_59" type="prismatic">
		<origin xyz="0.8376136925644979 0.01796272728800824 -0.025560318443522766"/>
		<axis xyz="0 -0.999122966290321 -0.04187240417303504"/>
		<child link="link_59"/>
		<parent link="link_104"/>
		<limit lower="0" upper="0.005"/>
	</joint>
	<link name="link_60">
		<visual name="key-62">
			<origin xyz="-0.8376136925644979 -0.01796272728800824 0.025560318443522766"/>
			<geometry>
				<mesh filename="textured_objs/original_51.obj"/>
			</geometry>
		</visual>
		<collision>
			<origin xyz="-0.8376136925644979 -0.01796272728800824 0.025560318443522766"/>
			<geometry>
				<mesh filename="textured_objs/original_51.obj"/>
			</geometry>
		</collision>
	</link>
	<joint name="joint_60" type="prismatic">
		<origin xyz="0.8376136925644979 0.01796272728800824 -0.025560318443522766"/>
		<axis xyz="0 -0.999122966290321 -0.04187240417303504"/>
		<child link="link_60"/>
		<parent link="link_104"/>
		<limit lower="0" upper="0.005"/>
	</joint>
	<link name="link_61">
		<visual name="key-63">
			<origin xyz="-0.8376136925644979 -0.01796272728800824 0.025560318443522766"/>
			<geometry>
				<mesh filename="textured_objs/original_42.obj"/>
			</geometry>
		</visual>
		<collision>
			<origin xyz="-0.8376136925644979 -0.01796272728800824 0.025560318443522766"/>
			<geometry>
				<mesh filename="textured_objs/original_42.obj"/>
			</geometry>
		</collision>
	</link>
	<joint name="joint_61" type="prismatic">
		<origin xyz="0.8376136925644979 0.01796272728800824 -0.025560318443522766"/>
		<axis xyz="0 -0.999122966290321 -0.04187240417303504"/>
		<child link="link_61"/>
		<parent link="link_104"/>
		<limit lower="0" upper="0.005"/>
	</joint>
	<link name="link_62">
		<visual name="key-64">
			<origin xyz="-0.8376136925644979 -0.01796272728800824 0.025560318443522766"/>
			<geometry>
				<mesh filename="textured_objs/original_41.obj"/>
			</geometry>
		</visual>
		<collision>
			<origin xyz="-0.8376136925644979 -0.01796272728800824 0.025560318443522766"/>
			<geometry>
				<mesh filename="textured_objs/original_41.obj"/>
			</geometry>
		</collision>
	</link>
	<joint name="joint_62" type="prismatic">
		<origin xyz="0.8376136925644979 0.01796272728800824 -0.025560318443522766"/>
		<axis xyz="0 -0.999122966290321 -0.04187240417303504"/>
		<child link="link_62"/>
		<parent link="link_104"/>
		<limit lower="0" upper="0.005"/>
	</joint>
	<link name="link_63">
		<visual name="key-65">
			<origin xyz="-0.8376136925644979 -0.01796272728800824 0.025560318443522766"/>
			<geometry>
				<mesh filename="textured_objs/original_40.obj"/>
			</geometry>
		</visual>
		<collision>
			<origin xyz="-0.8376136925644979 -0.01796272728800824 0.025560318443522766"/>
			<geometry>
				<mesh filename="textured_objs/original_40.obj"/>
			</geometry>
		</collision>
	</link>
	<joint name="joint_63" type="prismatic">
		<origin xyz="0.8376136925644979 0.01796272728800824 -0.025560318443522766"/>
		<axis xyz="0 -0.999122966290321 -0.04187240417303504"/>
		<child link="link_63"/>
		<parent link="link_104"/>
		<limit lower="0" upper="0.005"/>
	</joint>
	<link name="link_64">
		<visual name="key-66">
			<origin xyz="-0.8376136925644979 -0.01796272728800824 0.025560318443522766"/>
			<geometry>
				<mesh filename="textured_objs/original_39.obj"/>
			</geometry>
		</visual>
		<collision>
			<origin xyz="-0.8376136925644979 -0.01796272728800824 0.025560318443522766"/>
			<geometry>
				<mesh filename="textured_objs/original_39.obj"/>
			</geometry>
		</collision>
	</link>
	<joint name="joint_64" type="prismatic">
		<origin xyz="0.8376136925644979 0.01796272728800824 -0.025560318443522766"/>
		<axis xyz="0 -0.999122966290321 -0.04187240417303504"/>
		<child link="link_64"/>
		<parent link="link_104"/>
		<limit lower="0" upper="0.005"/>
	</joint>
	<link name="link_65">
		<visual name="key-67">
			<origin xyz="-0.8376136925644979 -0.01796272728800824 0.025560318443522766"/>
			<geometry>
				<mesh filename="textured_objs/original_26.obj"/>
			</geometry>
		</visual>
		<collision>
			<origin xyz="-0.8376136925644979 -0.01796272728800824 0.025560318443522766"/>
			<geometry>
				<mesh filename="textured_objs/original_26.obj"/>
			</geometry>
		</collision>
	</link>
	<joint name="joint_65" type="prismatic">
		<origin xyz="0.8376136925644979 0.01796272728800824 -0.025560318443522766"/>
		<axis xyz="0 -0.999122966290321 -0.04187240417303504"/>
		<child link="link_65"/>
		<parent link="link_104"/>
		<limit lower="0" upper="0.005"/>
	</joint>
	<link name="link_66">
		<visual name="key-68">
			<origin xyz="-0.8376136925644979 -0.01796272728800824 0.025560318443522766"/>
			<geometry>
				<mesh filename="textured_objs/original_8.obj"/>
			</geometry>
		</visual>
		<collision>
			<origin xyz="-0.8376136925644979 -0.01796272728800824 0.025560318443522766"/>
			<geometry>
				<mesh filename="textured_objs/original_8.obj"/>
			</geometry>
		</collision>
	</link>
	<joint name="joint_66" type="prismatic">
		<origin xyz="0.8376136925644979 0.01796272728800824 -0.025560318443522766"/>
		<axis xyz="0 -0.999122966290321 -0.04187240417303504"/>
		<child link="link_66"/>
		<parent link="link_104"/>
		<limit lower="0" upper="0.005"/>
	</joint>
	<link name="link_67">
		<visual name="key-69">
			<origin xyz="-0.8376136925644979 -0.01796272728800824 0.025560318443522766"/>
			<geometry>
				<mesh filename="textured_objs/original_7.obj"/>
			</geometry>
		</visual>
		<collision>
			<origin xyz="-0.8376136925644979 -0.01796272728800824 0.025560318443522766"/>
			<geometry>
				<mesh filename="textured_objs/original_7.obj"/>
			</geometry>
		</collision>
	</link>
	<joint name="joint_67" type="prismatic">
		<origin xyz="0.8376136925644979 0.01796272728800824 -0.025560318443522766"/>
		<axis xyz="0 -0.999122966290321 -0.04187240417303504"/>
		<child link="link_67"/>
		<parent link="link_104"/>
		<limit lower="0" upper="0.005"/>
	</joint>
	<link name="link_68">
		<visual name="key-70">
			<origin xyz="-0.8376136925644979 -0.01796272728800824 0.025560318443522766"/>
			<geometry>
				<mesh filename="textured_objs/original_9.obj"/>
			</geometry>
		</visual>
		<collision>
			<origin xyz="-0.8376136925644979 -0.01796272728800824 0.025560318443522766"/>
			<geometry>
				<mesh filename="textured_objs/original_9.obj"/>
			</geometry>
		</collision>
	</link>
	<joint name="joint_68" type="prismatic">
		<origin xyz="0.8376136925644979 0.01796272728800824 -0.025560318443522766"/>
		<axis xyz="0 -0.999122966290321 -0.04187240417303504"/>
		<child link="link_68"/>
		<parent link="link_104"/>
		<limit lower="0" upper="0.005"/>
	</joint>
	<link name="link_69">
		<visual name="key-71">
			<origin xyz="-0.8376136925644979 -0.01796272728800824 0.025560318443522766"/>
			<geometry>
				<mesh filename="textured_objs/original_10.obj"/>
			</geometry>
		</visual>
		<collision>
			<origin xyz="-0.8376136925644979 -0.01796272728800824 0.025560318443522766"/>
			<geometry>
				<mesh filename="textured_objs/original_10.obj"/>
			</geometry>
		</collision>
	</link>
	<joint name="joint_69" type="prismatic">
		<origin xyz="0.8376136925644979 0.01796272728800824 -0.025560318443522766"/>
		<axis xyz="0 -0.999122966290321 -0.04187240417303504"/>
		<child link="link_69"/>
		<parent link="link_104"/>
		<limit lower="0" upper="0.005"/>
	</joint>
	<link name="link_70">
		<visual name="key-72">
			<origin xyz="-0.8376136925644979 -0.01796272728800824 0.025560318443522766"/>
			<geometry>
				<mesh filename="textured_objs/original_11.obj"/>
			</geometry>
		</visual>
		<collision>
			<origin xyz="-0.8376136925644979 -0.01796272728800824 0.025560318443522766"/>
			<geometry>
				<mesh filename="textured_objs/original_11.obj"/>
			</geometry>
		</collision>
	</link>
	<joint name="joint_70" type="prismatic">
		<origin xyz="0.8376136925644979 0.01796272728800824 -0.025560318443522766"/>
		<axis xyz="0 -0.999122966290321 -0.04187240417303504"/>
		<child link="link_70"/>
		<parent link="link_104"/>
		<limit lower="0" upper="0.005"/>
	</joint>
	<link name="link_71">
		<visual name="key-73">
			<origin xyz="-0.8376136925644979 -0.01796272728800824 0.025560318443522766"/>
			<geometry>
				<mesh filename="textured_objs/original_25.obj"/>
			</geometry>
		</visual>
		<collision>
			<origin xyz="-0.8376136925644979 -0.01796272728800824 0.025560318443522766"/>
			<geometry>
				<mesh filename="textured_objs/original_25.obj"/>
			</geometry>
		</collision>
	</link>
	<joint name="joint_71" type="prismatic">
		<origin xyz="0.8376136925644979 0.01796272728800824 -0.025560318443522766"/>
		<axis xyz="0 -0.999122966290321 -0.04187240417303504"/>
		<child link="link_71"/>
		<parent link="link_104"/>
		<limit lower="0" upper="0.005"/>
	</joint>
	<link name="link_72">
		<visual name="key-74">
			<origin xyz="-0.8376136925644979 -0.01796272728800824 0.025560318443522766"/>
			<geometry>
				<mesh filename="textured_objs/original_12.obj"/>
			</geometry>
		</visual>
		<collision>
			<origin xyz="-0.8376136925644979 -0.01796272728800824 0.025560318443522766"/>
			<geometry>
				<mesh filename="textured_objs/original_12.obj"/>
			</geometry>
		</collision>
	</link>
	<joint name="joint_72" type="prismatic">
		<origin xyz="0.8376136925644979 0.01796272728800824 -0.025560318443522766"/>
		<axis xyz="0 -0.999122966290321 -0.04187240417303504"/>
		<child link="link_72"/>
		<parent link="link_104"/>
		<limit lower="0" upper="0.005"/>
	</joint>
	<link name="link_73">
		<visual name="key-75">
			<origin xyz="-0.8376136925644979 -0.01796272728800824 0.025560318443522766"/>
			<geometry>
				<mesh filename="textured_objs/original_27.obj"/>
			</geometry>
		</visual>
		<collision>
			<origin xyz="-0.8376136925644979 -0.01796272728800824 0.025560318443522766"/>
			<geometry>
				<mesh filename="textured_objs/original_27.obj"/>
			</geometry>
		</collision>
	</link>
	<joint name="joint_73" type="prismatic">
		<origin xyz="0.8376136925644979 0.01796272728800824 -0.025560318443522766"/>
		<axis xyz="0 -0.999122966290321 -0.04187240417303504"/>
		<child link="link_73"/>
		<parent link="link_104"/>
		<limit lower="0" upper="0.005"/>
	</joint>
	<link name="link_74">
		<visual name="key-76">
			<origin xyz="-0.8376136925644979 -0.01796272728800824 0.025560318443522766"/>
			<geometry>
				<mesh filename="textured_objs/original_28.obj"/>
			</geometry>
		</visual>
		<collision>
			<origin xyz="-0.8376136925644979 -0.01796272728800824 0.025560318443522766"/>
			<geometry>
				<mesh filename="textured_objs/original_28.obj"/>
			</geometry>
		</collision>
	</link>
	<joint name="joint_74" type="prismatic">
		<origin xyz="0.8376136925644979 0.01796272728800824 -0.025560318443522766"/>
		<axis xyz="0 -0.999122966290321 -0.04187240417303504"/>
		<child link="link_74"/>
		<parent link="link_104"/>
		<limit lower="0" upper="0.005"/>
	</joint>
	<link name="link_75">
		<visual name="key-77">
			<origin xyz="-0.8376136925644979 -0.01796272728800824 0.025560318443522766"/>
			<geometry>
				<mesh filename="textured_objs/original_30.obj"/>
			</geometry>
		</visual>
		<collision>
			<origin xyz="-0.8376136925644979 -0.01796272728800824 0.025560318443522766"/>
			<geometry>
				<mesh filename="textured_objs/original_30.obj"/>
			</geometry>
		</collision>
	</link>
	<joint name="joint_75" type="prismatic">
		<origin xyz="0.8376136925644979 0.01796272728800824 -0.025560318443522766"/>
		<axis xyz="0 -0.999122966290321 -0.04187240417303504"/>
		<child link="link_75"/>
		<parent link="link_104"/>
		<limit lower="0" upper="0.005"/>
	</joint>
	<link name="link_76">
		<visual name="key-78">
			<origin xyz="-0.8376136925644979 -0.01796272728800824 0.025560318443522766"/>
			<geometry>
				<mesh filename="textured_objs/original_43.obj"/>
			</geometry>
		</visual>
		<collision>
			<origin xyz="-0.8376136925644979 -0.01796272728800824 0.025560318443522766"/>
			<geometry>
				<mesh filename="textured_objs/original_43.obj"/>
			</geometry>
		</collision>
	</link>
	<joint name="joint_76" type="prismatic">
		<origin xyz="0.8376136925644979 0.01796272728800824 -0.025560318443522766"/>
		<axis xyz="0 -0.999122966290321 -0.04187240417303504"/>
		<child link="link_76"/>
		<parent link="link_104"/>
		<limit lower="0" upper="0.005"/>
	</joint>
	<link name="link_77">
		<visual name="key-79">
			<origin xyz="-0.8376136925644979 -0.01796272728800824 0.025560318443522766"/>
			<geometry>
				<mesh filename="textured_objs/original_44.obj"/>
			</geometry>
		</visual>
		<collision>
			<origin xyz="-0.8376136925644979 -0.01796272728800824 0.025560318443522766"/>
			<geometry>
				<mesh filename="textured_objs/original_44.obj"/>
			</geometry>
		</collision>
	</link>
	<joint name="joint_77" type="prismatic">
		<origin xyz="0.8376136925644979 0.01796272728800824 -0.025560318443522766"/>
		<axis xyz="0 -0.999122966290321 -0.04187240417303504"/>
		<child link="link_77"/>
		<parent link="link_104"/>
		<limit lower="0" upper="0.005"/>
	</joint>
	<link name="link_78">
		<visual name="key-80">
			<origin xyz="-0.8376136925644979 -0.01796272728800824 0.025560318443522766"/>
			<geometry>
				<mesh filename="textured_objs/original_64.obj"/>
			</geometry>
		</visual>
		<collision>
			<origin xyz="-0.8376136925644979 -0.01796272728800824 0.025560318443522766"/>
			<geometry>
				<mesh filename="textured_objs/original_64.obj"/>
			</geometry>
		</collision>
	</link>
	<joint name="joint_78" type="prismatic">
		<origin xyz="0.8376136925644979 0.01796272728800824 -0.025560318443522766"/>
		<axis xyz="0 -0.999122966290321 -0.04187240417303504"/>
		<child link="link_78"/>
		<parent link="link_104"/>
		<limit lower="0" upper="0.005"/>
	</joint>
	<link name="link_79">
		<visual name="key-81">
			<origin xyz="-0.8376136925644979 -0.01796272728800824 0.025560318443522766"/>
			<geometry>
				<mesh filename="textured_objs/original_45.obj"/>
			</geometry>
		</visual>
		<collision>
			<origin xyz="-0.8376136925644979 -0.01796272728800824 0.025560318443522766"/>
			<geometry>
				<mesh filename="textured_objs/original_45.obj"/>
			</geometry>
		</collision>
	</link>
	<joint name="joint_79" type="prismatic">
		<origin xyz="0.8376136925644979 0.01796272728800824 -0.025560318443522766"/>
		<axis xyz="0 -0.999122966290321 -0.04187240417303504"/>
		<child link="link_79"/>
		<parent link="link_104"/>
		<limit lower="0" upper="0.005"/>
	</joint>
	<link name="link_80">
		<visual name="key-82">
			<origin xyz="-0.8376136925644979 -0.01796272728800824 0.025560318443522766"/>
			<geometry>
				<mesh filename="textured_objs/original_63.obj"/>
			</geometry>
		</visual>
		<collision>
			<origin xyz="-0.8376136925644979 -0.01796272728800824 0.025560318443522766"/>
			<geometry>
				<mesh filename="textured_objs/original_63.obj"/>
			</geometry>
		</collision>
	</link>
	<joint name="joint_80" type="prismatic">
		<origin xyz="0.8376136925644979 0.01796272728800824 -0.025560318443522766"/>
		<axis xyz="0 -0.999122966290321 -0.04187240417303504"/>
		<child link="link_80"/>
		<parent link="link_104"/>
		<limit lower="0" upper="0.005"/>
	</joint>
	<link name="link_81">
		<visual name="key-83">
			<origin xyz="-0.8376136925644979 -0.01796272728800824 0.025560318443522766"/>
			<geometry>
				<mesh filename="textured_objs/original_66.obj"/>
			</geometry>
		</visual>
		<collision>
			<origin xyz="-0.8376136925644979 -0.01796272728800824 0.025560318443522766"/>
			<geometry>
				<mesh filename="textured_objs/original_66.obj"/>
			</geometry>
		</collision>
	</link>
	<joint name="joint_81" type="prismatic">
		<origin xyz="0.8376136925644979 0.01796272728800824 -0.025560318443522766"/>
		<axis xyz="0 -0.999122966290321 -0.04187240417303504"/>
		<child link="link_81"/>
		<parent link="link_104"/>
		<limit lower="0" upper="0.005"/>
	</joint>
	<link name="link_82">
		<visual name="key-84">
			<origin xyz="-0.8376136925644979 -0.01796272728800824 0.025560318443522766"/>
			<geometry>
				<mesh filename="textured_objs/original_83.obj"/>
			</geometry>
		</visual>
		<collision>
			<origin xyz="-0.8376136925644979 -0.01796272728800824 0.025560318443522766"/>
			<geometry>
				<mesh filename="textured_objs/original_83.obj"/>
			</geometry>
		</collision>
	</link>
	<joint name="joint_82" type="prismatic">
		<origin xyz="0.8376136925644979 0.01796272728800824 -0.025560318443522766"/>
		<axis xyz="0 -0.999122966290321 -0.04187240417303504"/>
		<child link="link_82"/>
		<parent link="link_104"/>
		<limit lower="0" upper="0.005"/>
	</joint>
	<link name="link_83">
		<visual name="key-85">
			<origin xyz="-0.8376136925644979 -0.01796272728800824 0.025560318443522766"/>
			<geometry>
				<mesh filename="textured_objs/original_88.obj"/>
			</geometry>
		</visual>
		<collision>
			<origin xyz="-0.8376136925644979 -0.01796272728800824 0.025560318443522766"/>
			<geometry>
				<mesh filename="textured_objs/original_88.obj"/>
			</geometry>
		</collision>
	</link>
	<joint name="joint_83" type="prismatic">
		<origin xyz="0.8376136925644979 0.01796272728800824 -0.025560318443522766"/>
		<axis xyz="0 -0.999122966290321 -0.04187240417303504"/>
		<child link="link_83"/>
		<parent link="link_104"/>
		<limit lower="0" upper="0.005"/>
	</joint>
	<link name="link_84">
		<visual name="key-86">
			<origin xyz="-0.8376136925644979 -0.01796272728800824 0.025560318443522766"/>
			<geometry>
				<mesh filename="textured_objs/original_84.obj"/>
			</geometry>
		</visual>
		<collision>
			<origin xyz="-0.8376136925644979 -0.01796272728800824 0.025560318443522766"/>
			<geometry>
				<mesh filename="textured_objs/original_84.obj"/>
			</geometry>
		</collision>
	</link>
	<joint name="joint_84" type="prismatic">
		<origin xyz="0.8376136925644979 0.01796272728800824 -0.025560318443522766"/>
		<axis xyz="0 -0.999122966290321 -0.04187240417303504"/>
		<child link="link_84"/>
		<parent link="link_104"/>
		<limit lower="0" upper="0.005"/>
	</joint>
	<link name="link_85">
		<visual name="key-87">
			<origin xyz="-0.8376136925644979 -0.01796272728800824 0.025560318443522766"/>
			<geometry>
				<mesh filename="textured_objs/original_87.obj"/>
			</geometry>
		</visual>
		<collision>
			<origin xyz="-0.8376136925644979 -0.01796272728800824 0.025560318443522766"/>
			<geometry>
				<mesh filename="textured_objs/original_87.obj"/>
			</geometry>
		</collision>
	</link>
	<joint name="joint_85" type="prismatic">
		<origin xyz="0.8376136925644979 0.01796272728800824 -0.025560318443522766"/>
		<axis xyz="0 -0.999122966290321 -0.04187240417303504"/>
		<child link="link_85"/>
		<parent link="link_104"/>
		<limit lower="0" upper="0.005"/>
	</joint>
	<link name="link_86">
		<visual name="key-88">
			<origin xyz="-0.8376136925644979 -0.01796272728800824 0.025560318443522766"/>
			<geometry>
				<mesh filename="textured_objs/original_86.obj"/>
			</geometry>
		</visual>
		<collision>
			<origin xyz="-0.8376136925644979 -0.01796272728800824 0.025560318443522766"/>
			<geometry>
				<mesh filename="textured_objs/original_86.obj"/>
			</geometry>
		</collision>
	</link>
	<joint name="joint_86" type="prismatic">
		<origin xyz="0.8376136925644979 0.01796272728800824 -0.025560318443522766"/>
		<axis xyz="0 -0.999122966290321 -0.04187240417303504"/>
		<child link="link_86"/>
		<parent link="link_104"/>
		<limit lower="0" upper="0.005"/>
	</joint>
	<link name="link_87">
		<visual name="key-89">
			<origin xyz="-0.8376136925644979 -0.01796272728800824 0.025560318443522766"/>
			<geometry>
				<mesh filename="textured_objs/original_85.obj"/>
			</geometry>
		</visual>
		<collision>
			<origin xyz="-0.8376136925644979 -0.01796272728800824 0.025560318443522766"/>
			<geometry>
				<mesh filename="textured_objs/original_85.obj"/>
			</geometry>
		</collision>
	</link>
	<joint name="joint_87" type="prismatic">
		<origin xyz="0.8376136925644979 0.01796272728800824 -0.025560318443522766"/>
		<axis xyz="0 -0.999122966290321 -0.04187240417303504"/>
		<child link="link_87"/>
		<parent link="link_104"/>
		<limit lower="0" upper="0.005"/>
	</joint>
	<link name="link_88">
		<visual name="key-90">
			<origin xyz="-0.8376136925644979 -0.01796272728800824 0.025560318443522766"/>
			<geometry>
				<mesh filename="textured_objs/original_95.obj"/>
			</geometry>
		</visual>
		<collision>
			<origin xyz="-0.8376136925644979 -0.01796272728800824 0.025560318443522766"/>
			<geometry>
				<mesh filename="textured_objs/original_95.obj"/>
			</geometry>
		</collision>
	</link>
	<joint name="joint_88" type="prismatic">
		<origin xyz="0.8376136925644979 0.01796272728800824 -0.025560318443522766"/>
		<axis xyz="0 -0.999122966290321 -0.04187240417303504"/>
		<child link="link_88"/>
		<parent link="link_104"/>
		<limit lower="0" upper="0.005"/>
	</joint>
	<link name="link_89">
		<visual name="key-91">
			<origin xyz="-0.8376136925644979 -0.01796272728800824 0.025560318443522766"/>
			<geometry>
				<mesh filename="textured_objs/original_96.obj"/>
			</geometry>
		</visual>
		<collision>
			<origin xyz="-0.8376136925644979 -0.01796272728800824 0.025560318443522766"/>
			<geometry>
				<mesh filename="textured_objs/original_96.obj"/>
			</geometry>
		</collision>
	</link>
	<joint name="joint_89" type="prismatic">
		<origin xyz="0.8376136925644979 0.01796272728800824 -0.025560318443522766"/>
		<axis xyz="0 -0.999122966290321 -0.04187240417303504"/>
		<child link="link_89"/>
		<parent link="link_104"/>
		<limit lower="0" upper="0.005"/>
	</joint>
	<link name="link_90">
		<visual name="key-92">
			<origin xyz="-0.8376136925644979 -0.01796272728800824 0.025560318443522766"/>
			<geometry>
				<mesh filename="textured_objs/original_97.obj"/>
			</geometry>
		</visual>
		<collision>
			<origin xyz="-0.8376136925644979 -0.01796272728800824 0.025560318443522766"/>
			<geometry>
				<mesh filename="textured_objs/original_97.obj"/>
			</geometry>
		</collision>
	</link>
	<joint name="joint_90" type="prismatic">
		<origin xyz="0.8376136925644979 0.01796272728800824 -0.025560318443522766"/>
		<axis xyz="0 -0.999122966290321 -0.04187240417303504"/>
		<child link="link_90"/>
		<parent link="link_104"/>
		<limit lower="0" upper="0.005"/>
	</joint>
	<link name="link_91">
		<visual name="key-93">
			<origin xyz="-0.8376136925644979 -0.01796272728800824 0.025560318443522766"/>
			<geometry>
				<mesh filename="textured_objs/original_68.obj"/>
			</geometry>
		</visual>
		<collision>
			<origin xyz="-0.8376136925644979 -0.01796272728800824 0.025560318443522766"/>
			<geometry>
				<mesh filename="textured_objs/original_68.obj"/>
			</geometry>
		</collision>
	</link>
	<joint name="joint_91" type="prismatic">
		<origin xyz="0.8376136925644979 0.01796272728800824 -0.025560318443522766"/>
		<axis xyz="0 -0.999122966290321 -0.04187240417303504"/>
		<child link="link_91"/>
		<parent link="link_104"/>
		<limit lower="0" upper="0.005"/>
	</joint>
	<link name="link_92">
		<visual name="key-94">
			<origin xyz="-0.8376136925644979 -0.01796272728800824 0.025560318443522766"/>
			<geometry>
				<mesh filename="textured_objs/original_69.obj"/>
			</geometry>
		</visual>
		<collision>
			<origin xyz="-0.8376136925644979 -0.01796272728800824 0.025560318443522766"/>
			<geometry>
				<mesh filename="textured_objs/original_69.obj"/>
			</geometry>
		</collision>
	</link>
	<joint name="joint_92" type="prismatic">
		<origin xyz="0.8376136925644979 0.01796272728800824 -0.025560318443522766"/>
		<axis xyz="0 -0.999122966290321 -0.04187240417303504"/>
		<child link="link_92"/>
		<parent link="link_104"/>
		<limit lower="0" upper="0.005"/>
	</joint>
	<link name="link_93">
		<visual name="key-95">
			<origin xyz="-0.8376136925644979 -0.01796272728800824 0.025560318443522766"/>
			<geometry>
				<mesh filename="textured_objs/original_70.obj"/>
			</geometry>
		</visual>
		<collision>
			<origin xyz="-0.8376136925644979 -0.01796272728800824 0.025560318443522766"/>
			<geometry>
				<mesh filename="textured_objs/original_70.obj"/>
			</geometry>
		</collision>
	</link>
	<joint name="joint_93" type="prismatic">
		<origin xyz="0.8376136925644979 0.01796272728800824 -0.025560318443522766"/>
		<axis xyz="0 -0.999122966290321 -0.04187240417303504"/>
		<child link="link_93"/>
		<parent link="link_104"/>
		<limit lower="0" upper="0.005"/>
	</joint>
	<link name="link_94">
		<visual name="key-96">
			<origin xyz="-0.8376136925644979 -0.01796272728800824 0.025560318443522766"/>
			<geometry>
				<mesh filename="textured_objs/original_71.obj"/>
			</geometry>
		</visual>
		<collision>
			<origin xyz="-0.8376136925644979 -0.01796272728800824 0.025560318443522766"/>
			<geometry>
				<mesh filename="textured_objs/original_71.obj"/>
			</geometry>
		</collision>
	</link>
	<joint name="joint_94" type="prismatic">
		<origin xyz="0.8376136925644979 0.01796272728800824 -0.025560318443522766"/>
		<axis xyz="0 -0.999122966290321 -0.04187240417303504"/>
		<child link="link_94"/>
		<parent link="link_104"/>
		<limit lower="0" upper="0.005"/>
	</joint>
	<link name="link_95">
		<visual name="key-97">
			<origin xyz="-0.8376136925644979 -0.01796272728800824 0.025560318443522766"/>
			<geometry>
				<mesh filename="textured_objs/original_73.obj"/>
			</geometry>
		</visual>
		<collision>
			<origin xyz="-0.8376136925644979 -0.01796272728800824 0.025560318443522766"/>
			<geometry>
				<mesh filename="textured_objs/original_73.obj"/>
			</geometry>
		</collision>
	</link>
	<joint name="joint_95" type="prismatic">
		<origin xyz="0.8376136925644979 0.01796272728800824 -0.025560318443522766"/>
		<axis xyz="0 -0.999122966290321 -0.04187240417303504"/>
		<child link="link_95"/>
		<parent link="link_104"/>
		<limit lower="0" upper="0.005"/>
	</joint>
	<link name="link_96">
		<visual name="key-98">
			<origin xyz="-0.8376136925644979 -0.01796272728800824 0.025560318443522766"/>
			<geometry>
				<mesh filename="textured_objs/original_74.obj"/>
			</geometry>
		</visual>
		<collision>
			<origin xyz="-0.8376136925644979 -0.01796272728800824 0.025560318443522766"/>
			<geometry>
				<mesh filename="textured_objs/original_74.obj"/>
			</geometry>
		</collision>
	</link>
	<joint name="joint_96" type="prismatic">
		<origin xyz="0.8376136925644979 0.01796272728800824 -0.025560318443522766"/>
		<axis xyz="0 -0.999122966290321 -0.04187240417303504"/>
		<child link="link_96"/>
		<parent link="link_104"/>
		<limit lower="0" upper="0.005"/>
	</joint>
	<link name="link_97">
		<visual name="key-99">
			<origin xyz="-0.8376136925644979 -0.01796272728800824 0.025560318443522766"/>
			<geometry>
				<mesh filename="textured_objs/original_75.obj"/>
			</geometry>
		</visual>
		<collision>
			<origin xyz="-0.8376136925644979 -0.01796272728800824 0.025560318443522766"/>
			<geometry>
				<mesh filename="textured_objs/original_75.obj"/>
			</geometry>
		</collision>
	</link>
	<joint name="joint_97" type="prismatic">
		<origin xyz="0.8376136925644979 0.01796272728800824 -0.025560318443522766"/>
		<axis xyz="0 -0.999122966290321 -0.04187240417303504"/>
		<child link="link_97"/>
		<parent link="link_104"/>
		<limit lower="0" upper="0.005"/>
	</joint>
	<link name="link_98">
		<visual name="key-100">
			<origin xyz="-0.8376136925644979 -0.01796272728800824 0.025560318443522766"/>
			<geometry>
				<mesh filename="textured_objs/original_76.obj"/>
			</geometry>
		</visual>
		<collision>
			<origin xyz="-0.8376136925644979 -0.01796272728800824 0.025560318443522766"/>
			<geometry>
				<mesh filename="textured_objs/original_76.obj"/>
			</geometry>
		</collision>
	</link>
	<joint name="joint_98" type="prismatic">
		<origin xyz="0.8376136925644979 0.01796272728800824 -0.025560318443522766"/>
		<axis xyz="0 -0.999122966290321 -0.04187240417303504"/>
		<child link="link_98"/>
		<parent link="link_104"/>
		<limit lower="0" upper="0.005"/>
	</joint>
	<link name="link_99">
		<visual name="key-101">
			<origin xyz="-0.8376136925644979 -0.01796272728800824 0.025560318443522766"/>
			<geometry>
				<mesh filename="textured_objs/original_78.obj"/>
			</geometry>
		</visual>
		<collision>
			<origin xyz="-0.8376136925644979 -0.01796272728800824 0.025560318443522766"/>
			<geometry>
				<mesh filename="textured_objs/original_78.obj"/>
			</geometry>
		</collision>
	</link>
	<joint name="joint_99" type="prismatic">
		<origin xyz="0.8376136925644979 0.01796272728800824 -0.025560318443522766"/>
		<axis xyz="0 -0.999122966290321 -0.04187240417303504"/>
		<child link="link_99"/>
		<parent link="link_104"/>
		<limit lower="0" upper="0.005"/>
	</joint>
	<link name="link_100">
		<visual name="key-102">
			<origin xyz="-0.8376136925644979 -0.01796272728800824 0.025560318443522766"/>
			<geometry>
				<mesh filename="textured_objs/original_79.obj"/>
			</geometry>
		</visual>
		<collision>
			<origin xyz="-0.8376136925644979 -0.01796272728800824 0.025560318443522766"/>
			<geometry>
				<mesh filename="textured_objs/original_79.obj"/>
			</geometry>
		</collision>
	</link>
	<joint name="joint_100" type="prismatic">
		<origin xyz="0.8376136925644979 0.01796272728800824 -0.025560318443522766"/>
		<axis xyz="0 -0.999122966290321 -0.04187240417303504"/>
		<child link="link_100"/>
		<parent link="link_104"/>
		<limit lower="0" upper="0.005"/>
	</joint>
	<link name="link_101">
		<visual name="key-103">
			<origin xyz="-0.8376136925644979 -0.01796272728800824 0.025560318443522766"/>
			<geometry>
				<mesh filename="textured_objs/original_80.obj"/>
			</geometry>
		</visual>
		<collision>
			<origin xyz="-0.8376136925644979 -0.01796272728800824 0.025560318443522766"/>
			<geometry>
				<mesh filename="textured_objs/original_80.obj"/>
			</geometry>
		</collision>
	</link>
	<joint name="joint_101" type="prismatic">
		<origin xyz="0.8376136925644979 0.01796272728800824 -0.025560318443522766"/>
		<axis xyz="0 -0.999122966290321 -0.04187240417303504"/>
		<child link="link_101"/>
		<parent link="link_104"/>
		<limit lower="0" upper="0.005"/>
	</joint>
	<link name="link_102">
		<visual name="key-104">
			<origin xyz="-0.8376136925644979 -0.01796272728800824 0.025560318443522766"/>
			<geometry>
				<mesh filename="textured_objs/original_81.obj"/>
			</geometry>
		</visual>
		<collision>
			<origin xyz="-0.8376136925644979 -0.01796272728800824 0.025560318443522766"/>
			<geometry>
				<mesh filename="textured_objs/original_81.obj"/>
			</geometry>
		</collision>
	</link>
	<joint name="joint_102" type="prismatic">
		<origin xyz="0.8376136925644979 0.01796272728800824 -0.025560318443522766"/>
		<axis xyz="0 -0.999122966290321 -0.04187240417303504"/>
		<child link="link_102"/>
		<parent link="link_104"/>
		<limit lower="0" upper="0.005"/>
	</joint>
	<link name="link_103">
		<visual name="key-105">
			<origin xyz="-0.8376136925644979 -0.01796272728800824 0.025560318443522766"/>
			<geometry>
				<mesh filename="textured_objs/original_4.obj"/>
			</geometry>
		</visual>
		<collision>
			<origin xyz="-0.8376136925644979 -0.01796272728800824 0.025560318443522766"/>
			<geometry>
				<mesh filename="textured_objs/original_4.obj"/>
			</geometry>
		</collision>
	</link>
	<joint name="joint_103" type="prismatic">
		<origin xyz="0.8376136925644979 0.01796272728800824 -0.025560318443522766"/>
		<axis xyz="0 -0.999122966290321 -0.04187240417303504"/>
		<child link="link_103"/>
		<parent link="link_104"/>
		<limit lower="0" upper="0.005"/>
	</joint>
	<link name="link_104">
		<visual name="frame-1">
			<origin xyz="0 0 0"/>
			<geometry>
				<mesh filename="textured_objs/original_118.obj"/>
			</geometry>
		</visual>
		<visual name="tilt_leg-106">
			<origin xyz="0 0 0"/>
			<geometry>
				<mesh filename="textured_objs/original_1.obj"/>
			</geometry>
		</visual>
		<visual name="tilt_leg-107">
			<origin xyz="0 0 0"/>
			<geometry>
				<mesh filename="textured_objs/original_2.obj"/>
			</geometry>
		</visual>
		<visual name="other_leaf-111">
			<origin xyz="0 0 0"/>
			<geometry>
				<mesh filename="textured_objs/original_117.obj"/>
			</geometry>
		</visual>
		<visual name="other_leaf-112">
			<origin xyz="0 0 0"/>
			<geometry>
				<mesh filename="textured_objs/original_116.obj"/>
			</geometry>
		</visual>
		<collision>
			<origin xyz="0 0 0"/>
			<geometry>
				<mesh filename="textured_objs/original_118.obj"/>
			</geometry>
		</collision>
		<collision>
			<origin xyz="0 0 0"/>
			<geometry>
				<mesh filename="textured_objs/original_1.obj"/>
			</geometry>
		</collision>
		<collision>
			<origin xyz="0 0 0"/>
			<geometry>
				<mesh filename="textured_objs/original_2.obj"/>
			</geometry>
		</collision>
		<collision>
			<origin xyz="0 0 0"/>
			<geometry>
				<mesh filename="textured_objs/original_117.obj"/>
			</geometry>
		</collision>
		<collision>
			<origin xyz="0 0 0"/>
			<geometry>
				<mesh filename="textured_objs/original_116.obj"/>
			</geometry>
		</collision>
	</link>
	<joint name="joint_104" type="fixed">
		<origin rpy="1.570796326794897 0 -1.570796326794897" xyz="0 0 0"/>
		<child link="link_104"/>
		<parent link="base"/>
	</joint>
</robot>
